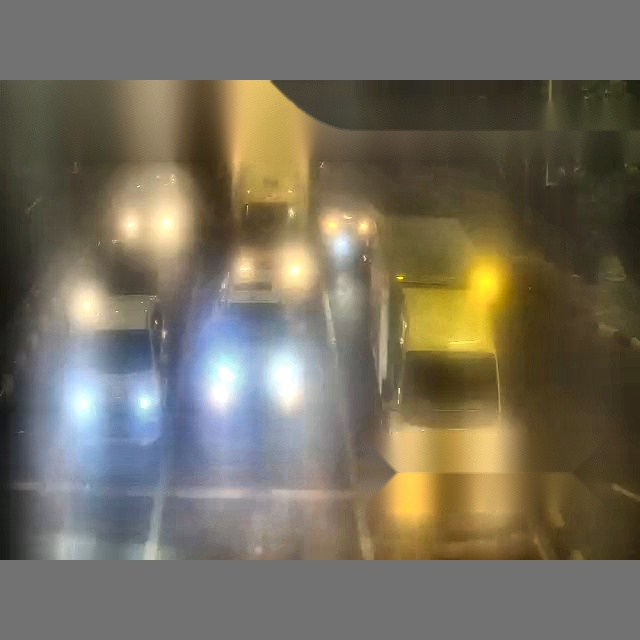Truk: (368, 113, 638, 476), (222, 80, 314, 224)
